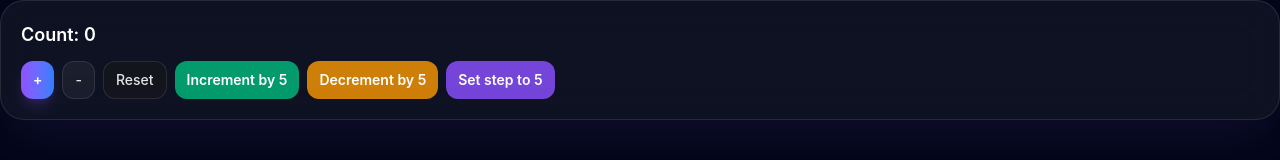
Test: Counter › increments count by 5
Click the button "Increment by 5" at (237, 80), box [174,61,299,99]
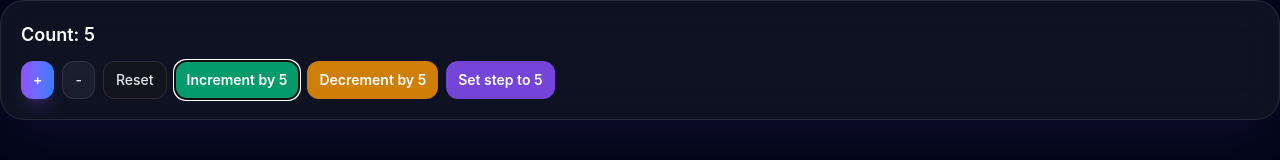
expect the text "Count: 5" is shown: met, box [21,21,95,49]
